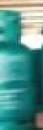cylinder: (0, 1, 43, 130)
